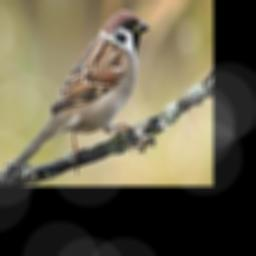Sparrow: (17, 10, 149, 171)
